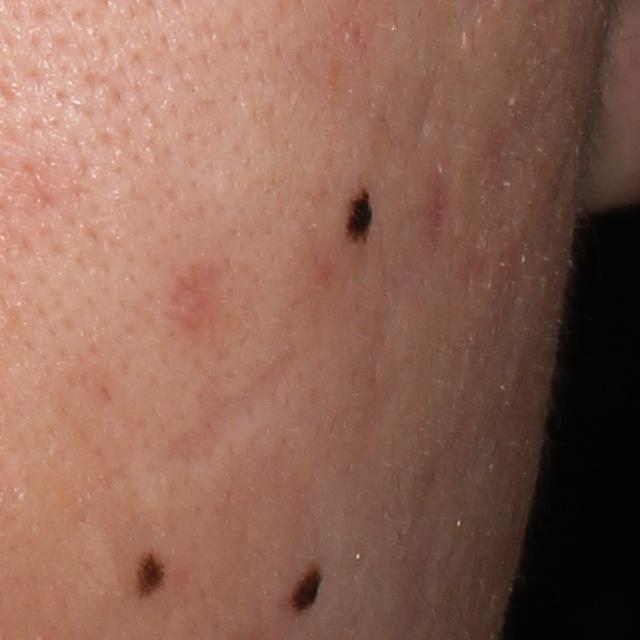atrophic_scar: (152, 349, 319, 484), (408, 67, 441, 144)
nevus: (337, 173, 384, 255), (285, 562, 325, 621), (135, 544, 174, 601)
other: (155, 339, 304, 468)
